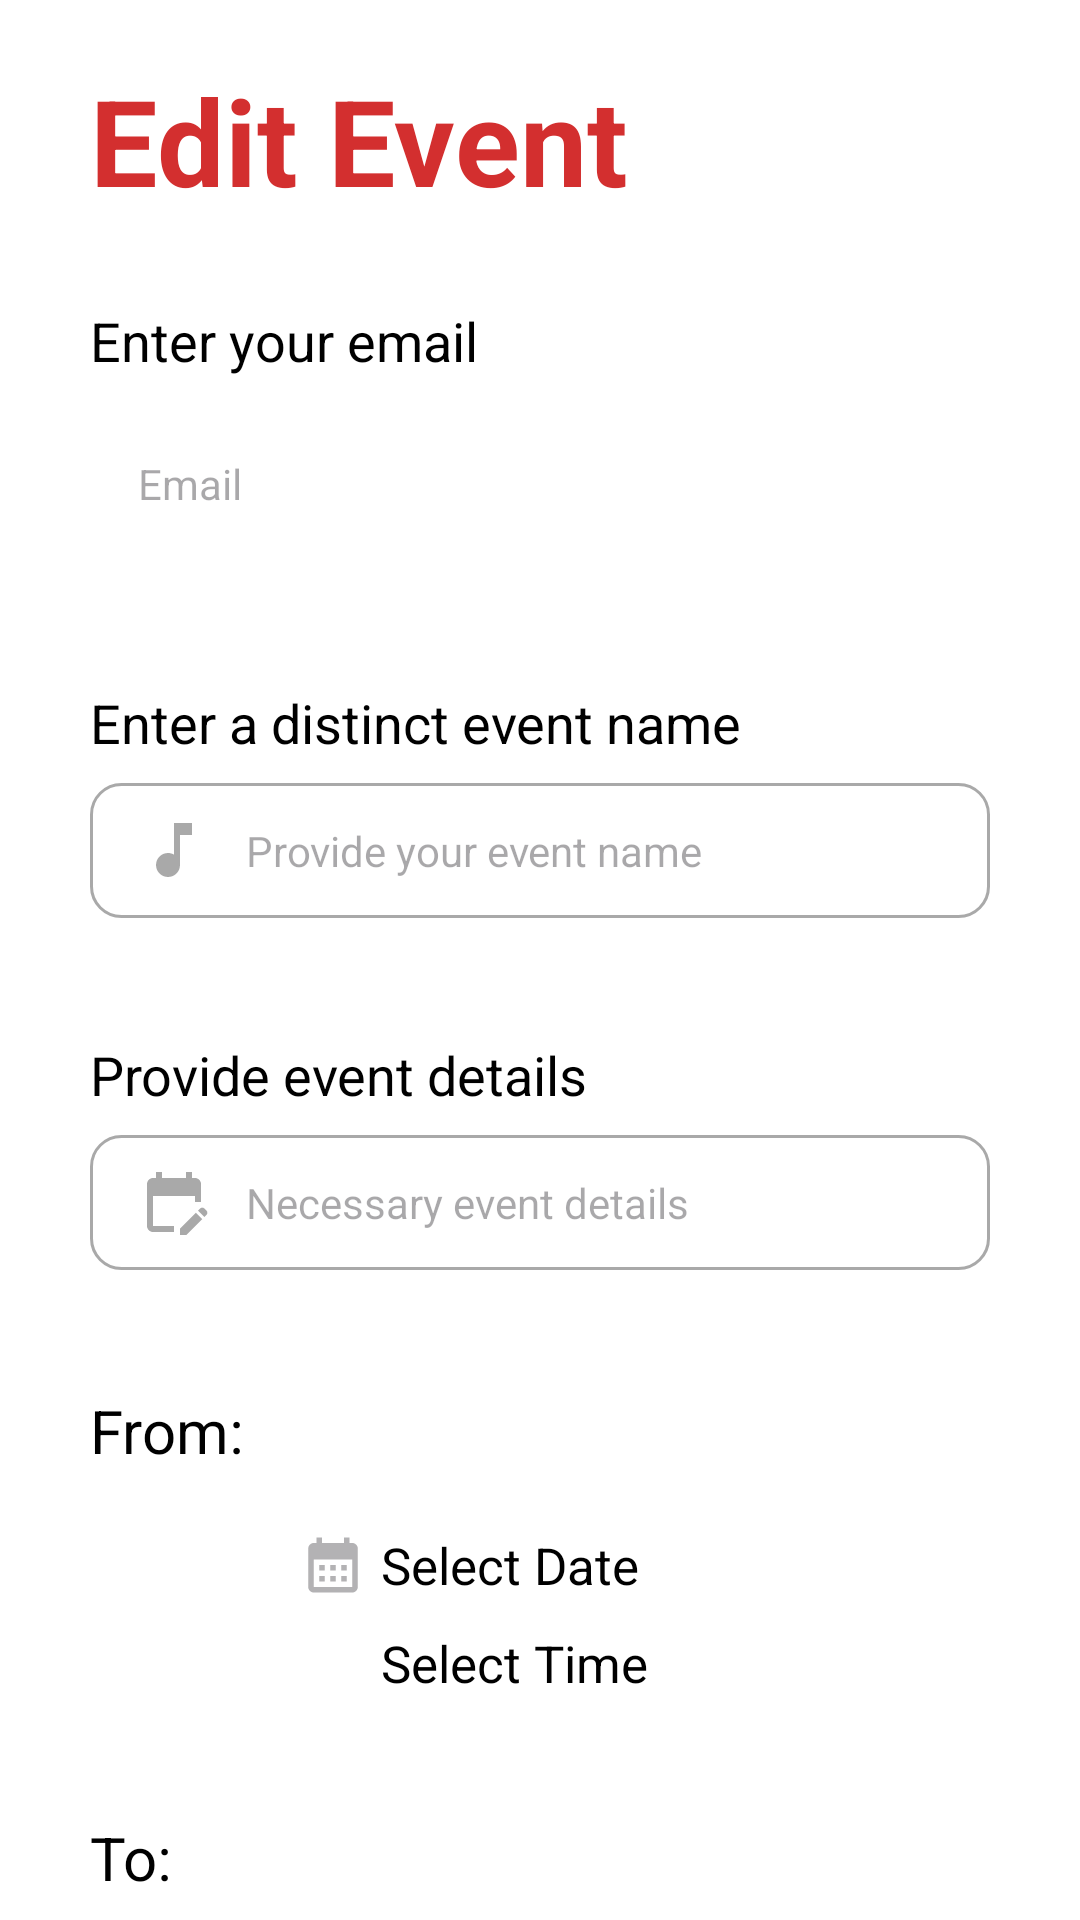

Locate icon controls on the screen. Image size 1080×1920, boxes as {"left": x1, "top": y1, "right": x2, "bottom": y2}.
calender: {"left": 308, "top": 1537, "right": 358, "bottom": 1593}
